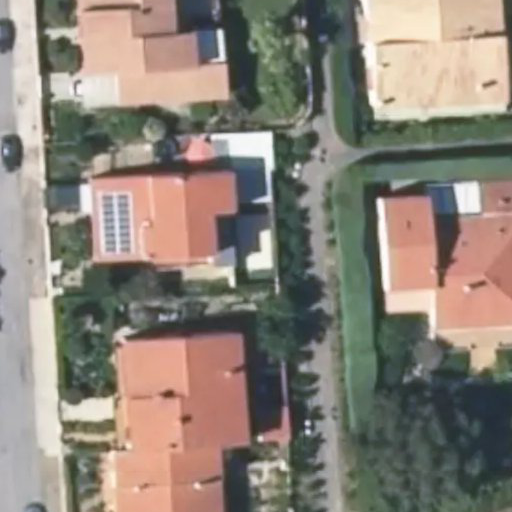pool: (240, 220, 271, 263)
